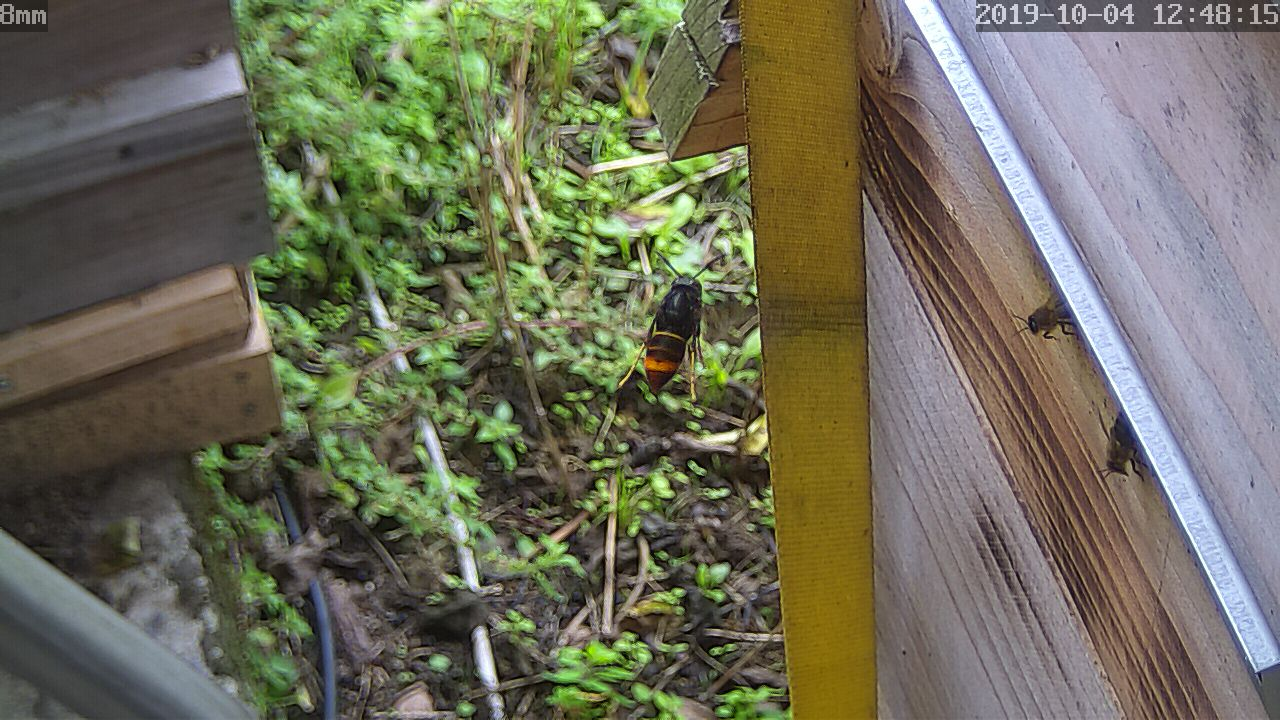bee: (1093, 406, 1147, 481), (1017, 294, 1075, 350)
hornet: (616, 253, 730, 398)
